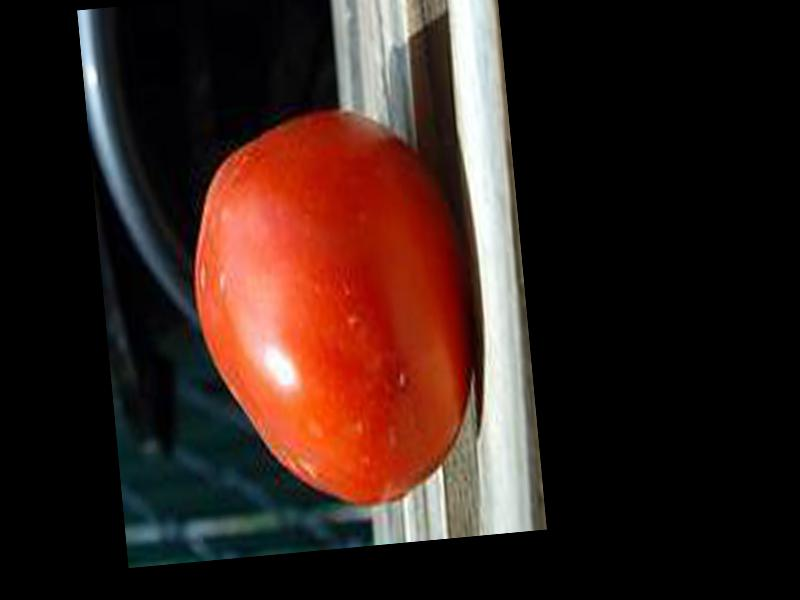Tomato: (179, 102, 483, 521)
